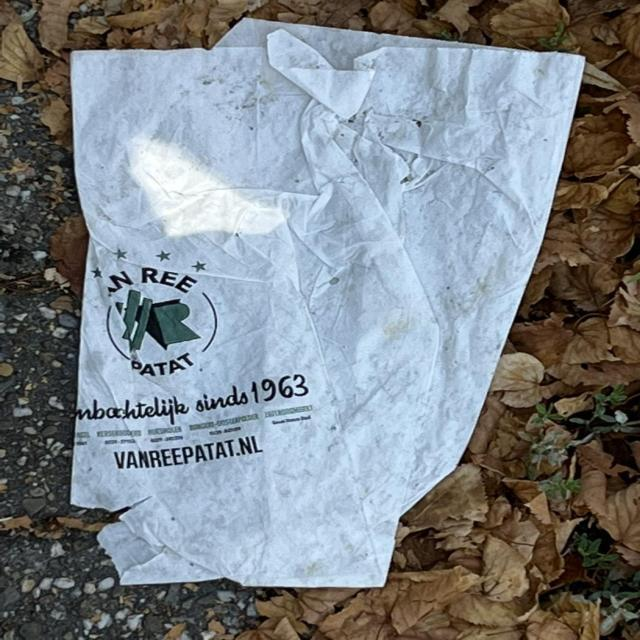Paper: (61, 13, 590, 596)
